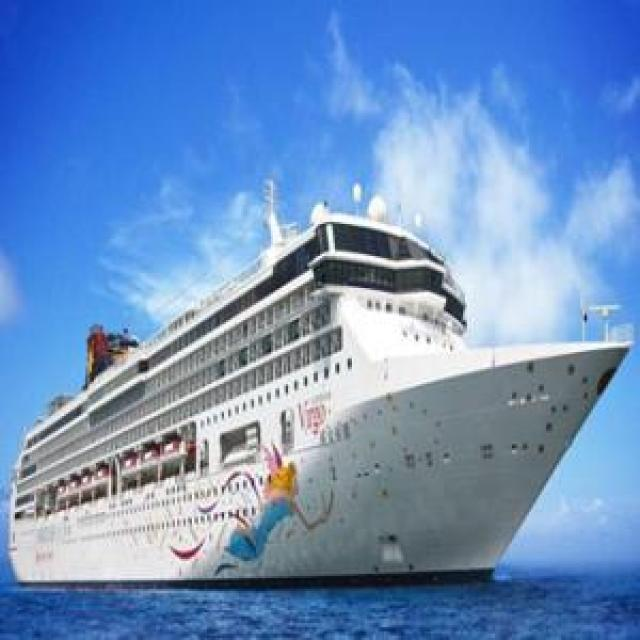passenger ship: (12, 200, 612, 578)
